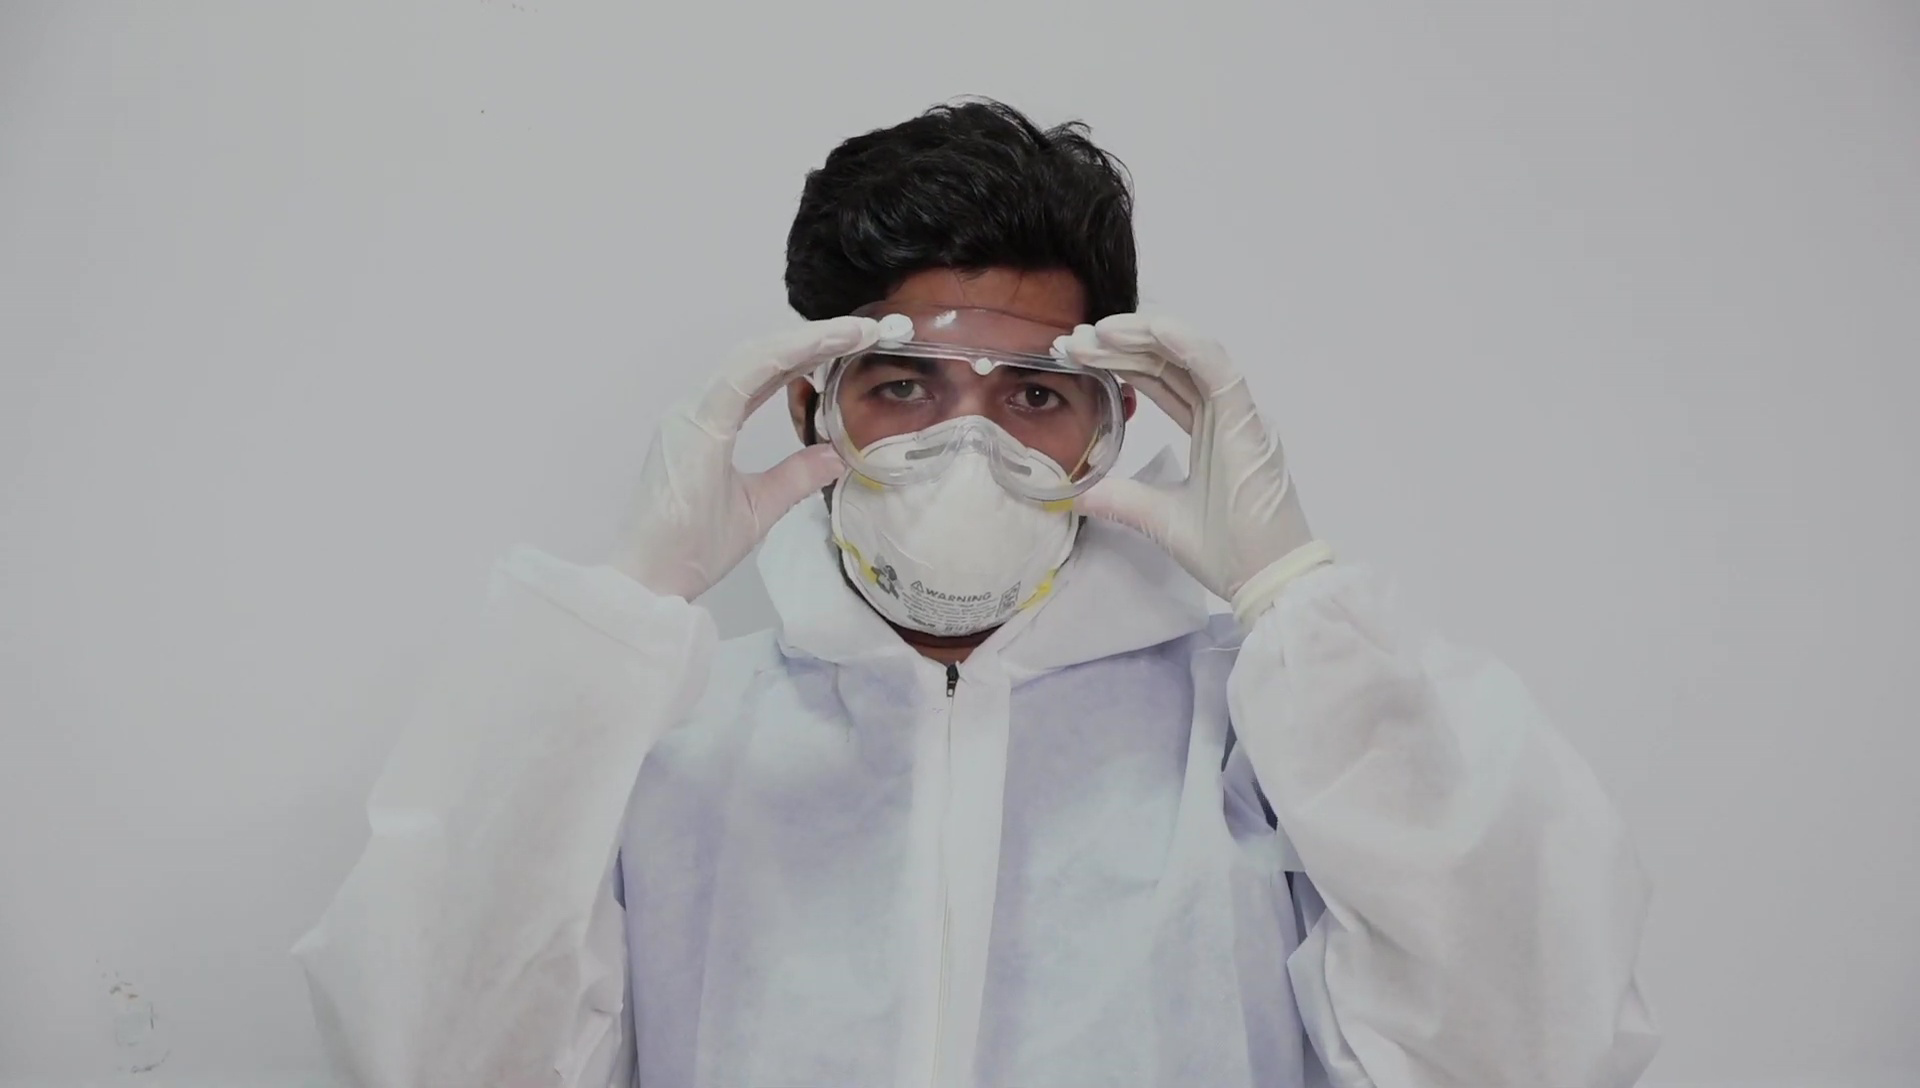Coverall: (296, 549, 1660, 1088)
Gloves: (598, 317, 883, 604), (1070, 314, 1315, 608)
Goggles: (812, 303, 1128, 512)
with_mask: (834, 377, 1084, 635)
